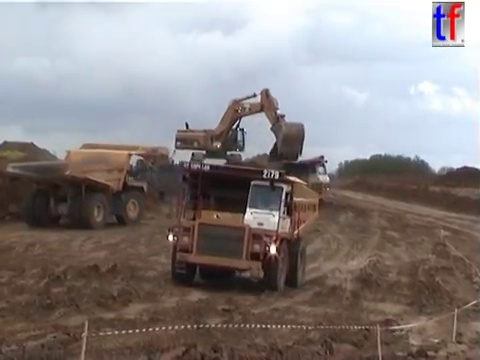excavator: (172, 86, 308, 171), (239, 154, 329, 189)
truck: (157, 157, 322, 292), (4, 146, 149, 232), (231, 157, 331, 204), (75, 141, 178, 177)
